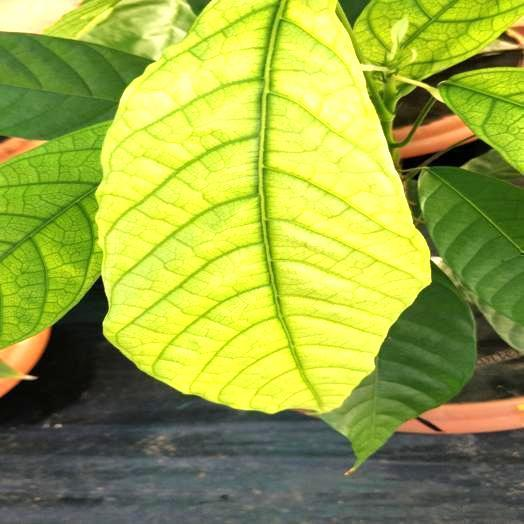Healthy Leaf: (322, 263, 476, 470), (419, 168, 523, 348), (0, 32, 151, 139)
Iron: (96, 0, 430, 413), (0, 123, 108, 347), (354, 0, 523, 79), (439, 69, 523, 168)
